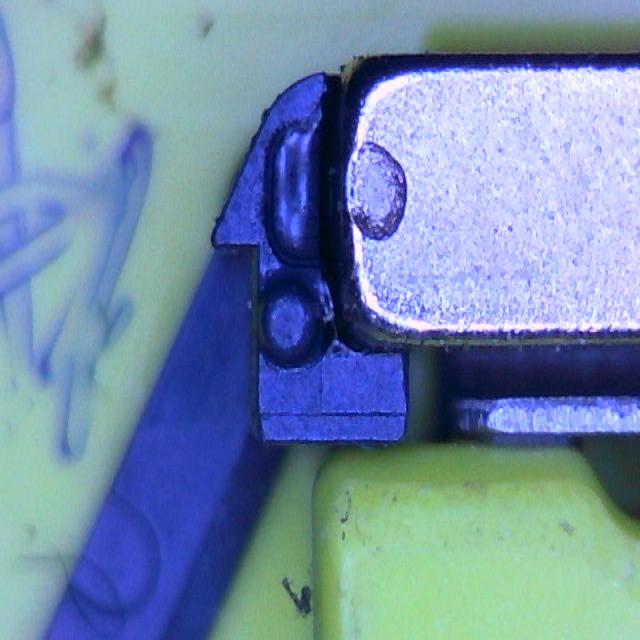over: (263, 117, 332, 266)
